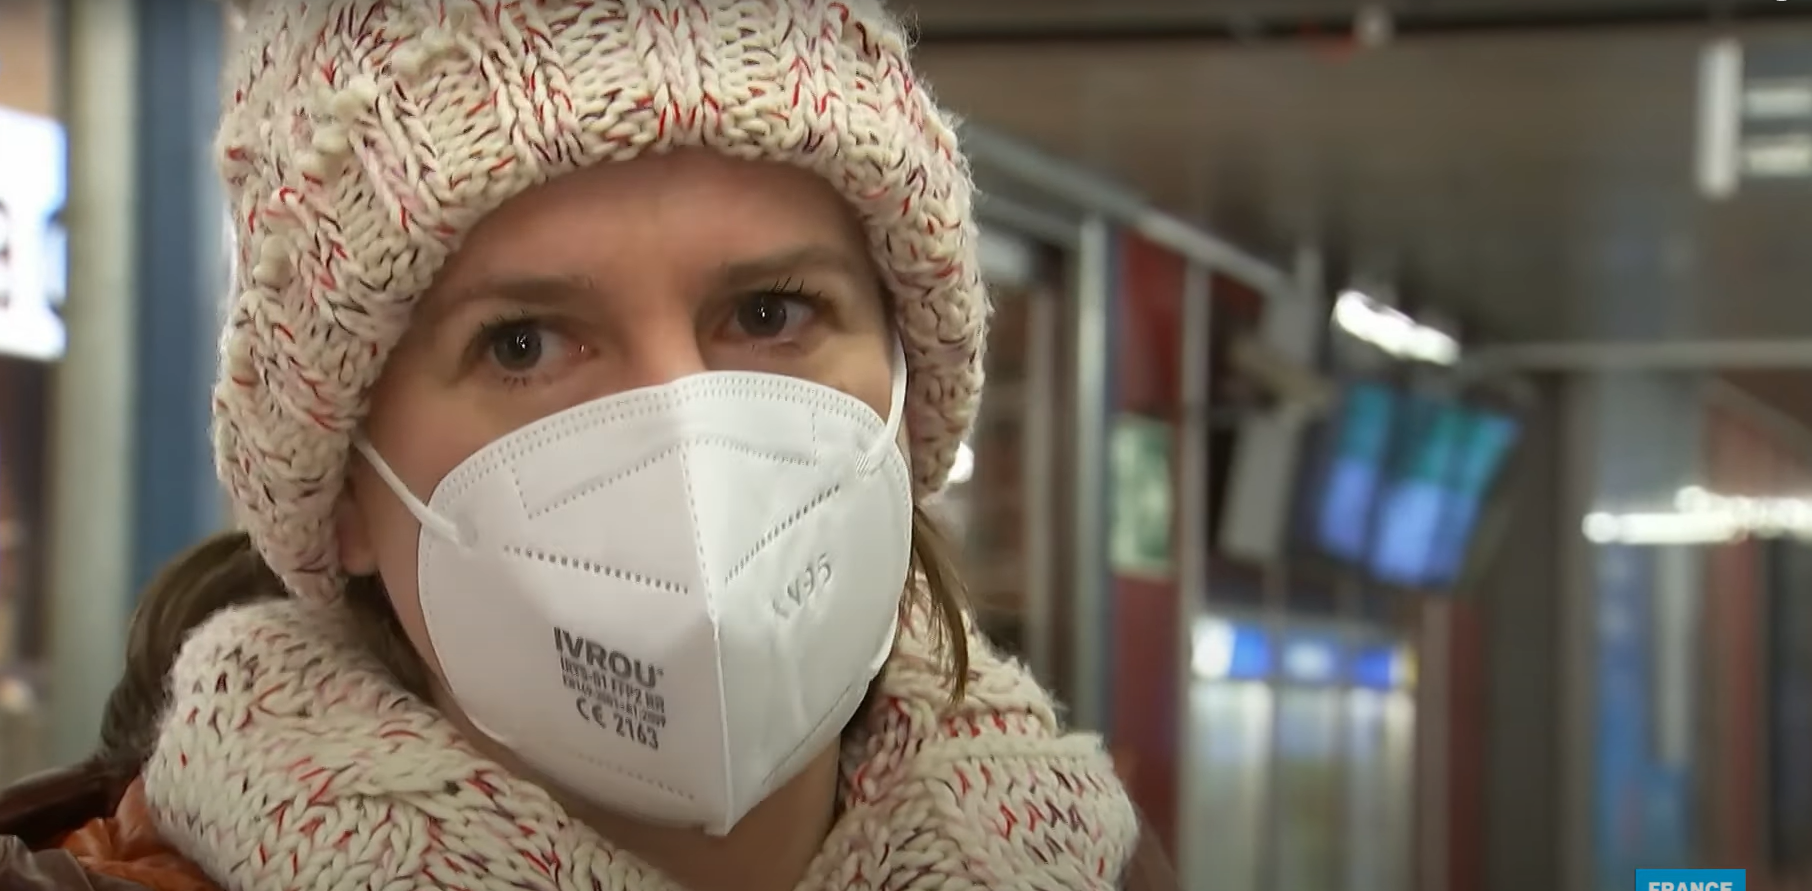with_mask: (356, 235, 919, 793)
